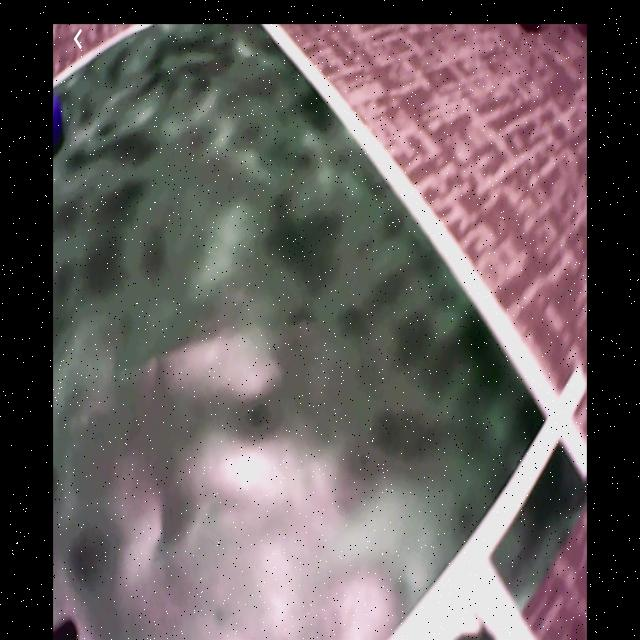ball: (55, 90, 66, 149)
